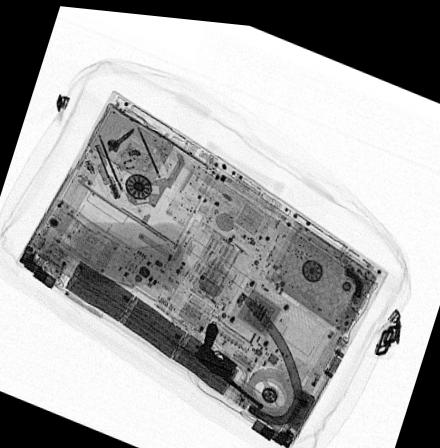Gun: (190, 315, 262, 404)
